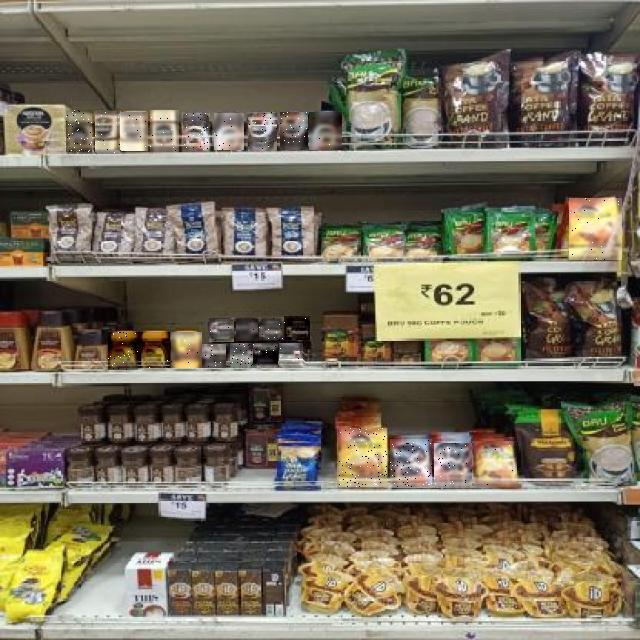Coffee: (569, 198, 622, 260), (339, 428, 387, 487), (390, 439, 432, 487), (474, 441, 517, 487), (434, 444, 472, 488), (309, 112, 342, 150), (150, 110, 179, 152), (138, 332, 171, 368), (170, 332, 202, 368), (108, 332, 138, 370), (248, 112, 277, 151), (214, 113, 244, 150), (66, 111, 92, 153), (122, 112, 150, 151), (96, 112, 122, 154), (182, 113, 210, 152), (280, 112, 308, 150), (284, 317, 310, 341), (280, 344, 306, 368), (209, 318, 234, 342), (253, 344, 278, 368), (202, 344, 226, 368), (259, 317, 284, 340), (230, 344, 253, 368), (236, 319, 258, 341)
